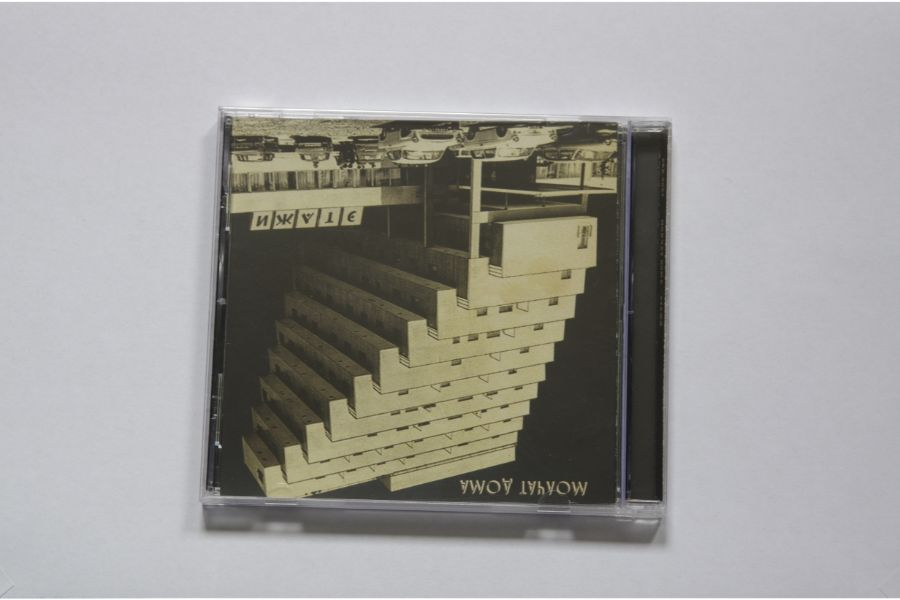album: (204, 106, 667, 529)
